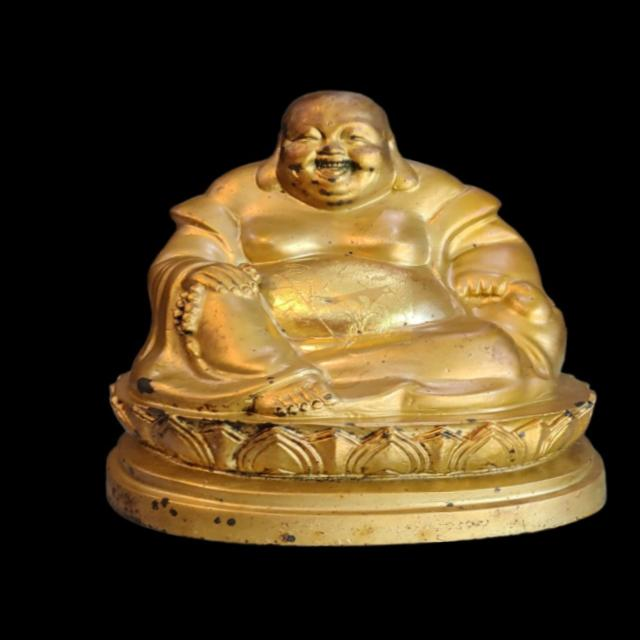Smiling Buddha: (84, 79, 577, 430)
